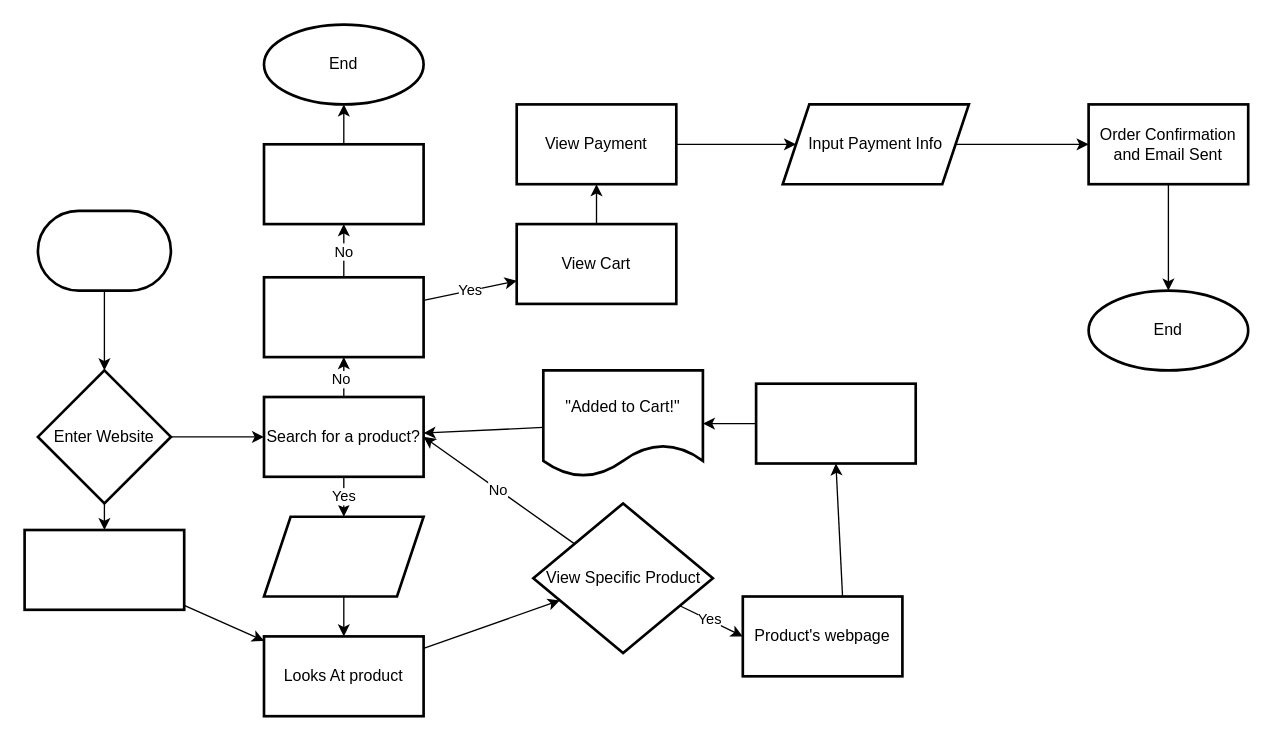
This 1271x739 diagram has some shape labels left out. The centre of each missing label's shape, as x and y in pixels:
"Add to Cart" goes at (x=835, y=423).
"Checkout?" goes at (x=343, y=316).
"Explore product on home page" goes at (x=104, y=569).
"Leave" goes at (x=343, y=183).
"Start" goes at (x=104, y=250).
"User Input" goes at (x=343, y=556).
